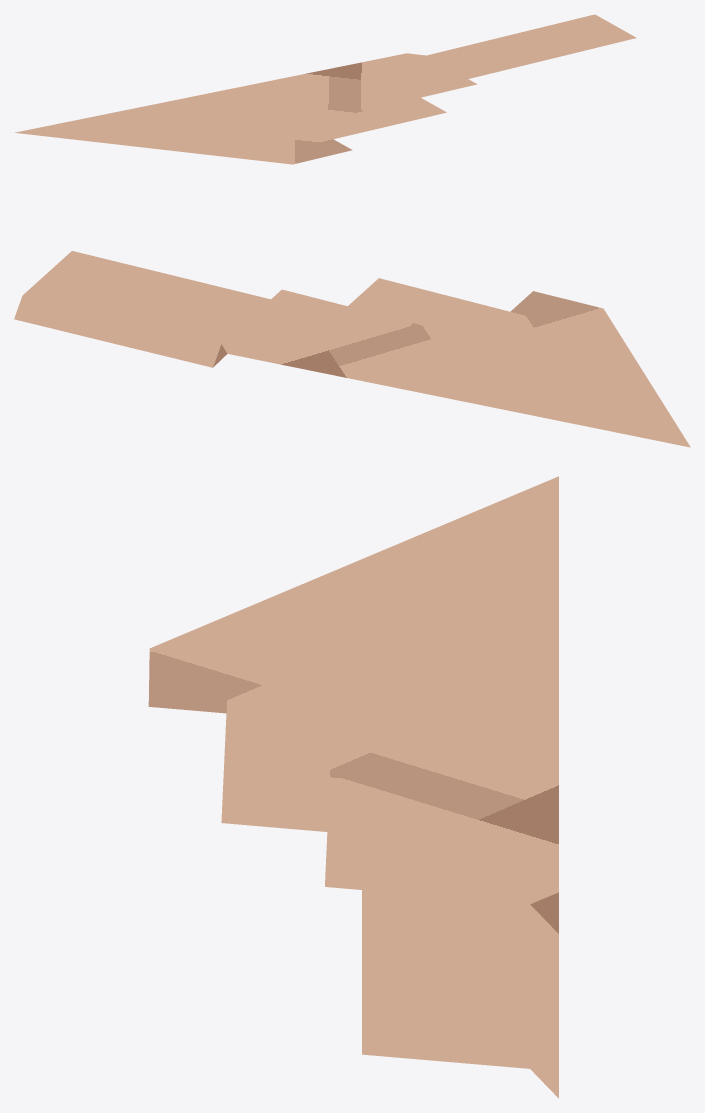
The picture shows the model from 3 angles, top to bottom: view 1: azimuth 30°, elevation 25°; view 2: azimuth 150°, elevation 25°; view 3: azimuth 270°, elevation 25°; orthographic projection. The views are drawn at different scales.
Size of the model in its own units: 0.7178 by 0.0373 by 0.2236.
1 material, 1 textured.
